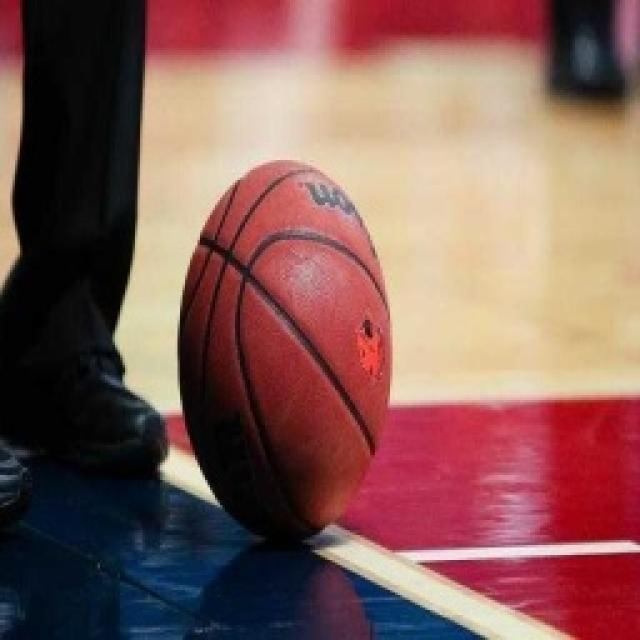rim: (173, 152, 401, 551)
